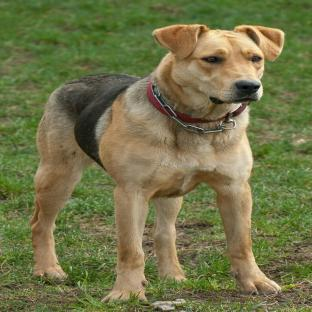Animal: (30, 24, 284, 302)
